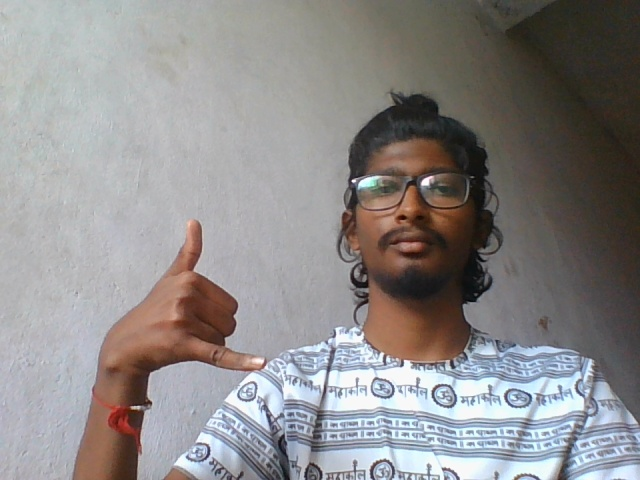Yes: (66, 210, 284, 397)
